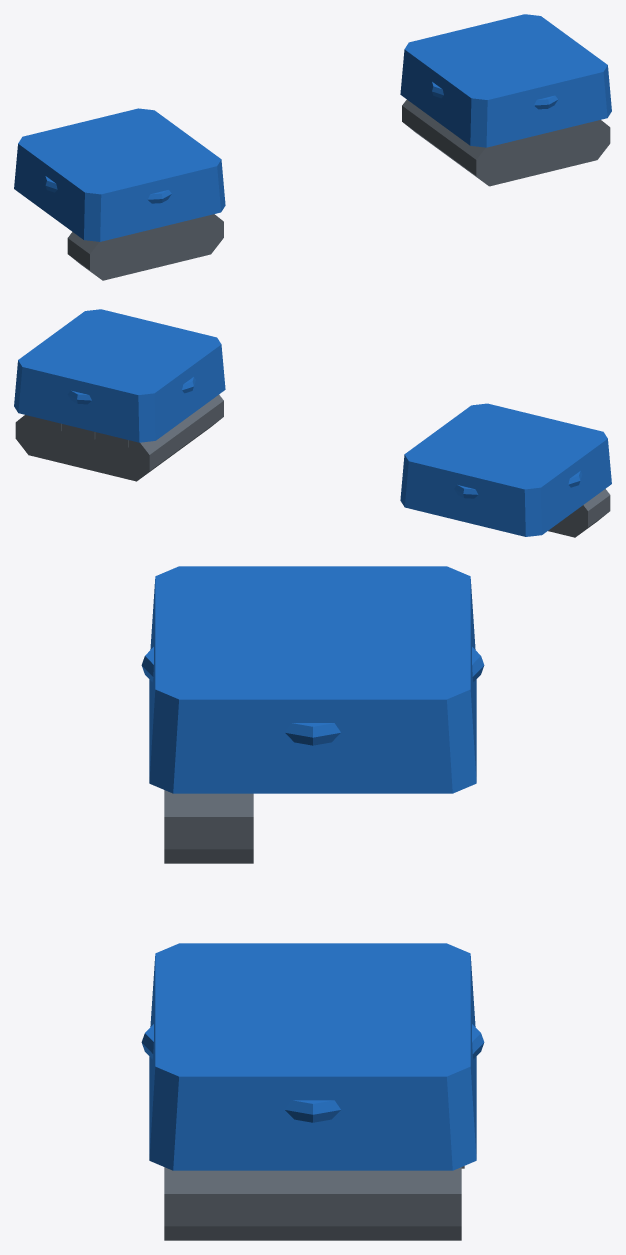
Rendered from gloves_bow_s2.fbx.
3 renders of one model, top to bottom at view 1: azimuth 30°, elevation 25°; view 2: azimuth 150°, elevation 25°; view 3: azimuth 270°, elevation 25°, orthographic. The views are drawn at different scales.
Visible parts, largest first — view 1: Bracer_L_Band, Bracer_R_Band, Glove_R_Inner, Glove_L_Inner; view 2: Bracer_L_Band, Bracer_R_Band, Glove_R_Inner, Glove_L_Inner; view 3: Bracer_R_Band, Bracer_L_Band, Glove_R_Inner, Glove_L_Inner.
Boxes of the visible parts, x1=… form: Bracer_L_Band: x1=14, y1=108, x2=225, y2=241; Bracer_R_Band: x1=400, y1=14, x2=611, y2=147; Glove_R_Inner: x1=402, y1=99, x2=610, y2=186; Glove_L_Inner: x1=67, y1=214, x2=223, y2=280; Bracer_L_Band: x1=400, y1=403, x2=611, y2=536; Bracer_R_Band: x1=14, y1=309, x2=225, y2=442; Glove_R_Inner: x1=15, y1=394, x2=223, y2=481; Glove_L_Inner: x1=548, y1=489, x2=610, y2=537; Bracer_R_Band: x1=141, y1=943, x2=484, y2=1170; Bracer_L_Band: x1=141, y1=566, x2=484, y2=793; Glove_R_Inner: x1=164, y1=1166, x2=464, y2=1240; Glove_L_Inner: x1=164, y1=790, x2=253, y2=863.
Size of the model in its own units: 415 by 66 by 115.
